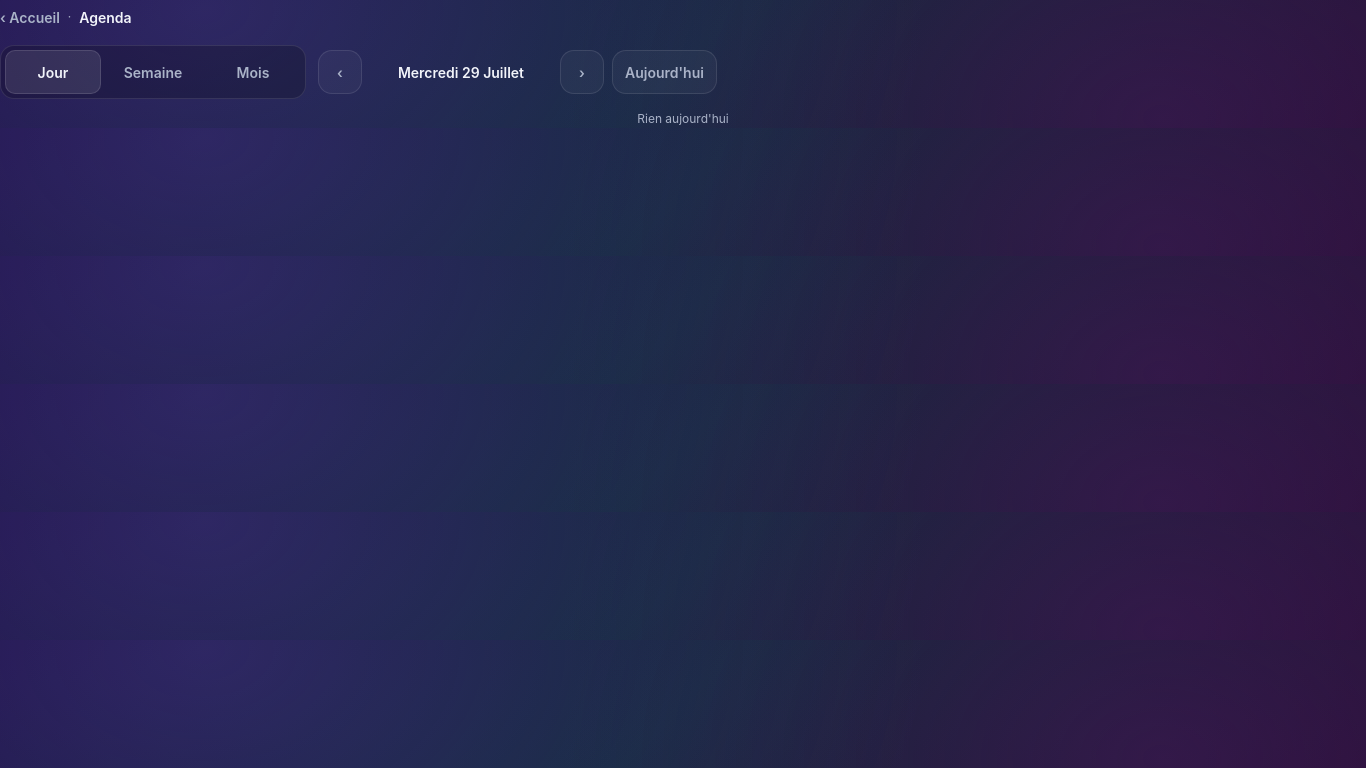
AgendaDetail (Story 10.2) › garde l'ancrage quand on change de vue
Click the tab "Semaine": (153, 72) [105,50,201,94]
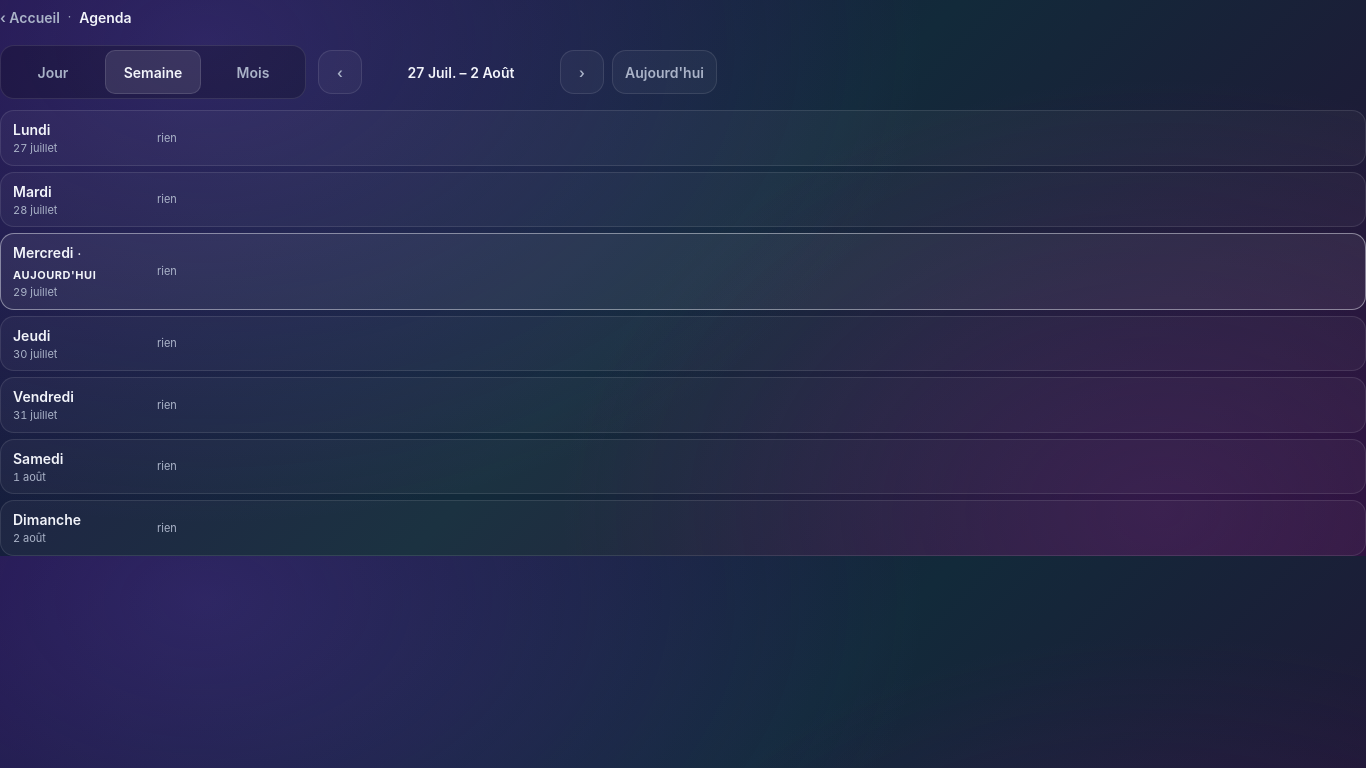
Click the button named "période suivante": (582, 72) [560,50,604,94]
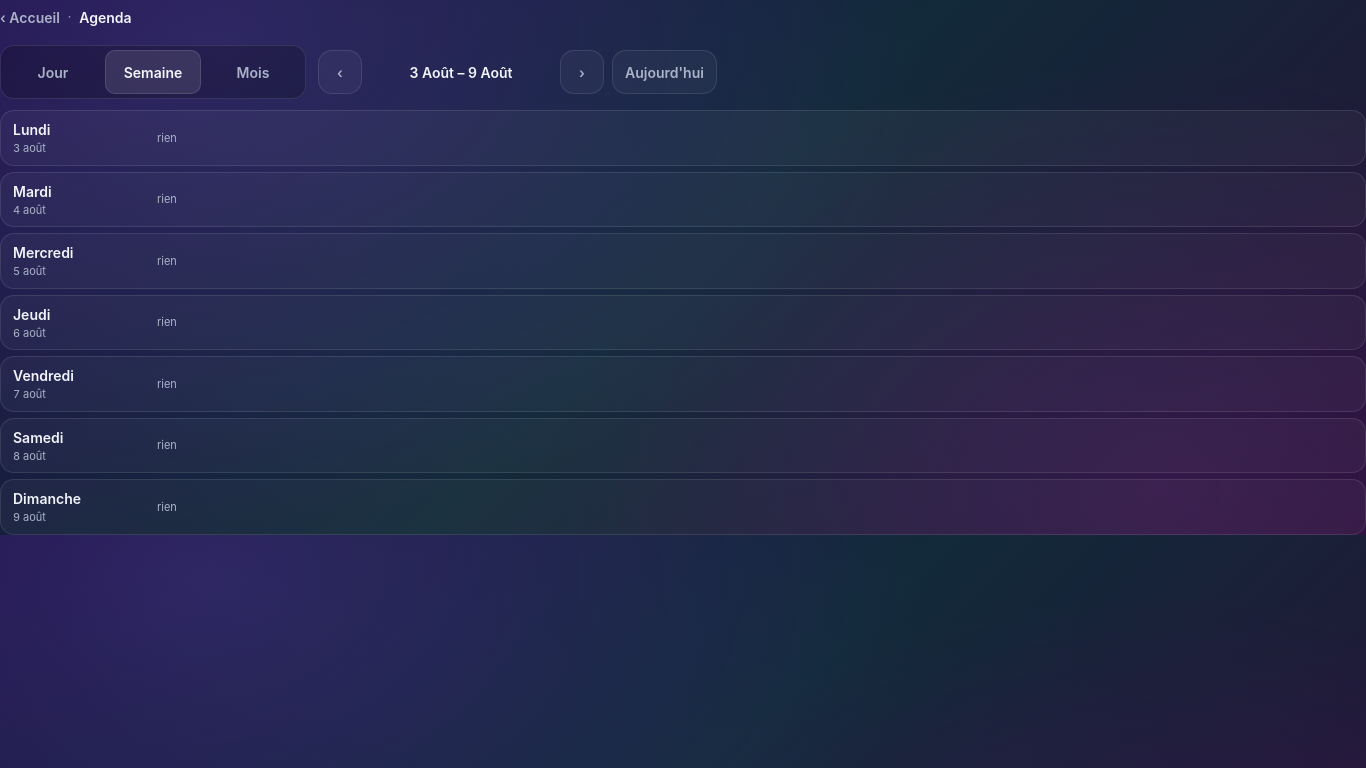
Click the tab "Mois": (253, 72) [205,50,301,94]
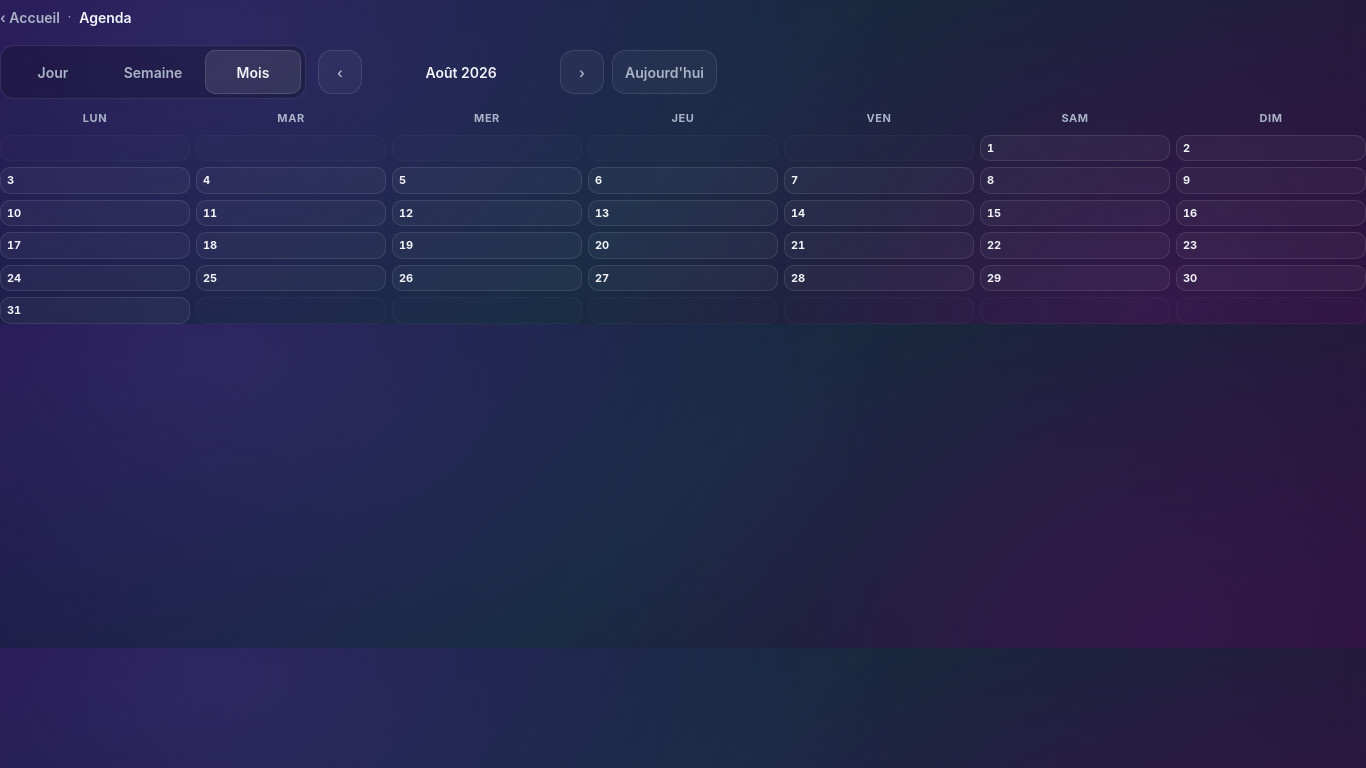
Expected: the text "août 2026" is shown, [425,64,497,80]
